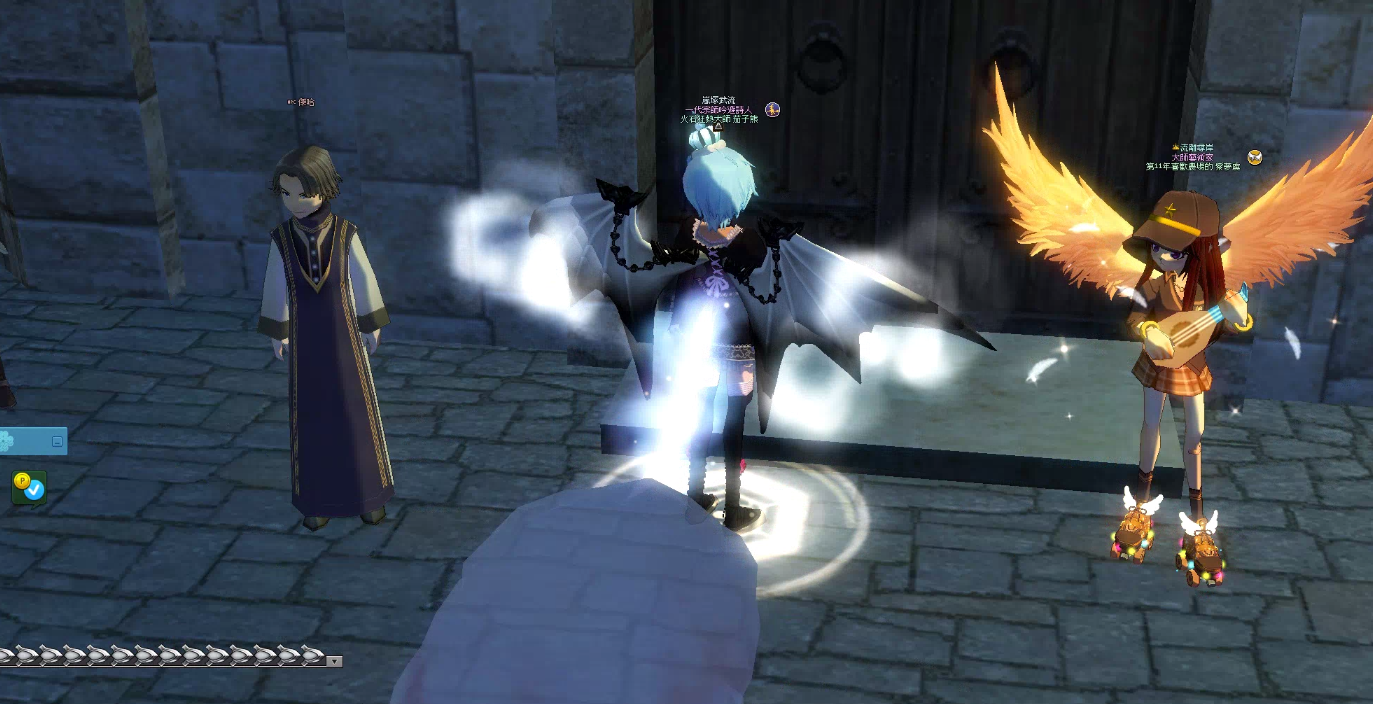j1: (234, 130, 420, 546)
